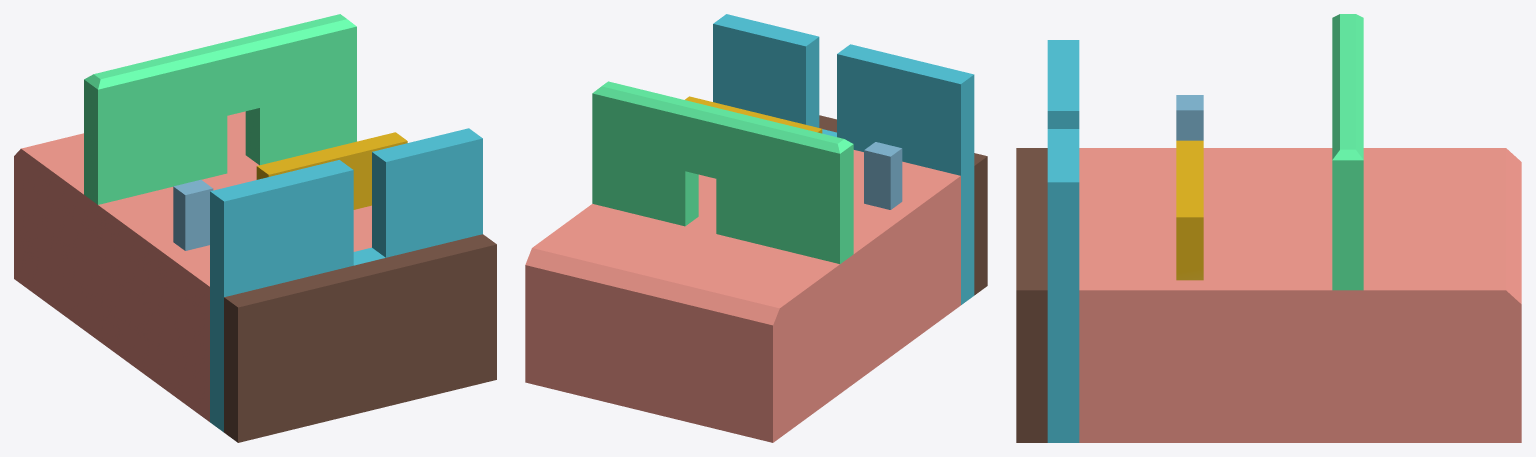
3 renders of one model, left to right at view 1: azimuth 30°, elevation 25°; view 2: azimuth 150°, elevation 25°; view 3: azimuth 270°, elevation 25°, orthographic. The views are drawn at different scales.
Visible parts, largest first — view 1: SceneBackground; view 2: SceneBackground; view 3: SceneBackground.
Boxes of the visible parts, bbox=[...] form: SceneBackground: bbox=[14, 14, 496, 442]; SceneBackground: bbox=[525, 14, 987, 442]; SceneBackground: bbox=[1016, 14, 1521, 442].
Size of the model in its own units: 16 by 15.19 by 24.
